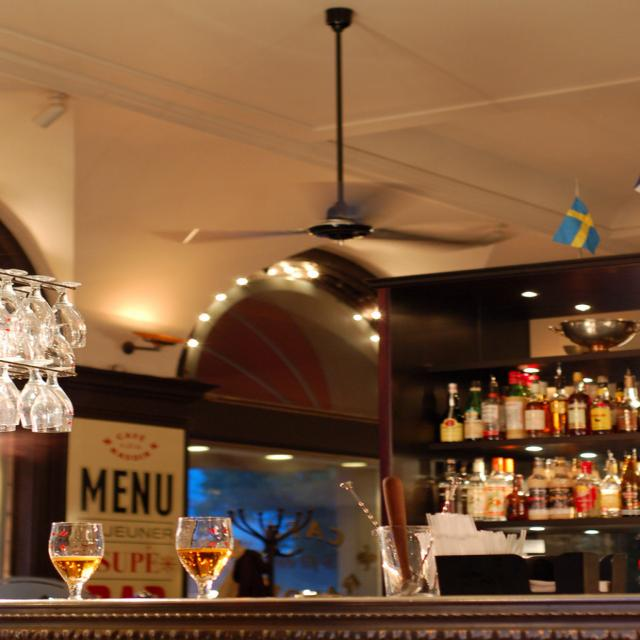Bulb: (151, 8, 516, 244)
